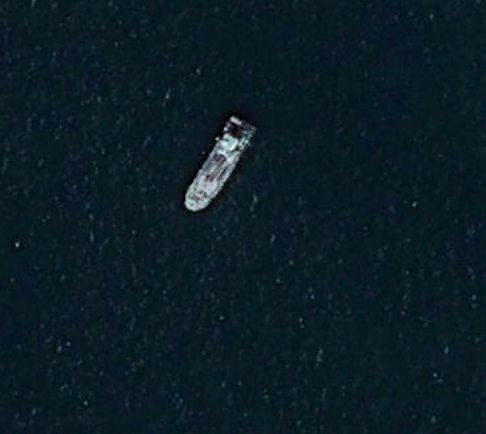boat: (183, 116, 259, 214)
